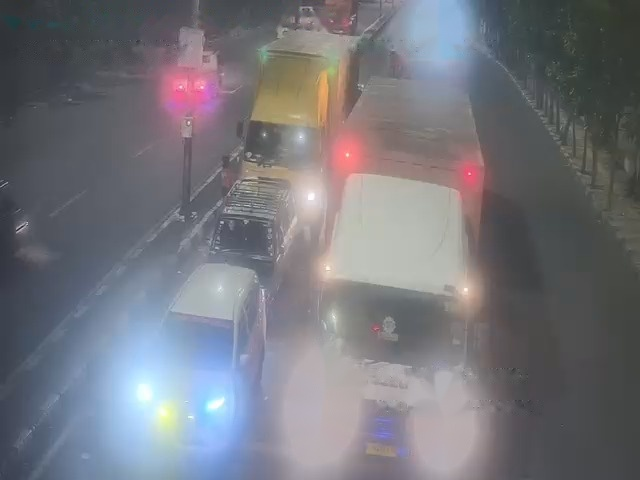Mobil: (145, 264, 270, 437), (211, 173, 294, 275)
Truk: (322, 85, 481, 464), (236, 42, 345, 196)
